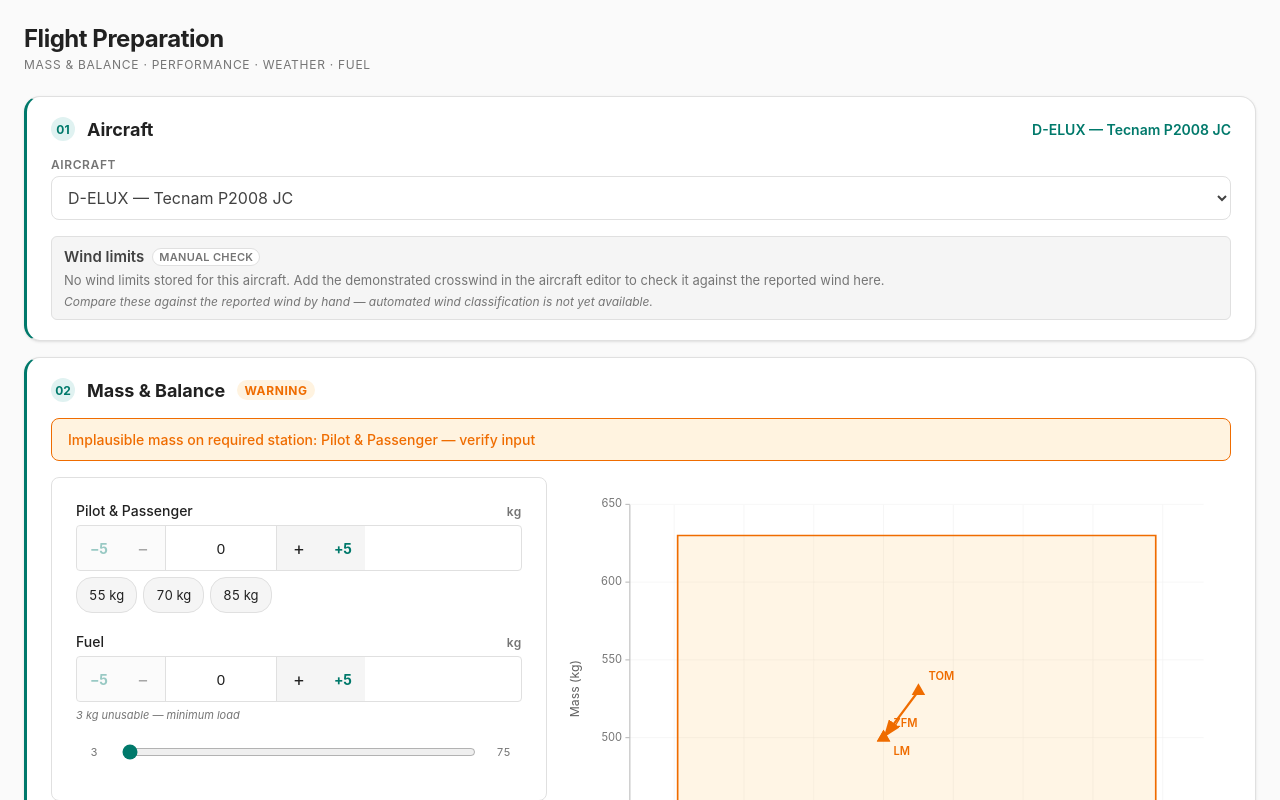
Test case: MassBalanceView — Reset Payload confirm + undo › does not reset on tap — opens an in-app confirmation with a discard count
The width and height of the screenshot is (1280, 800).
Replace the text in the field with id "station-0" with "80" at [221, 548], box x1=165 y1=526 x2=277 y2=570
(page scrolled)
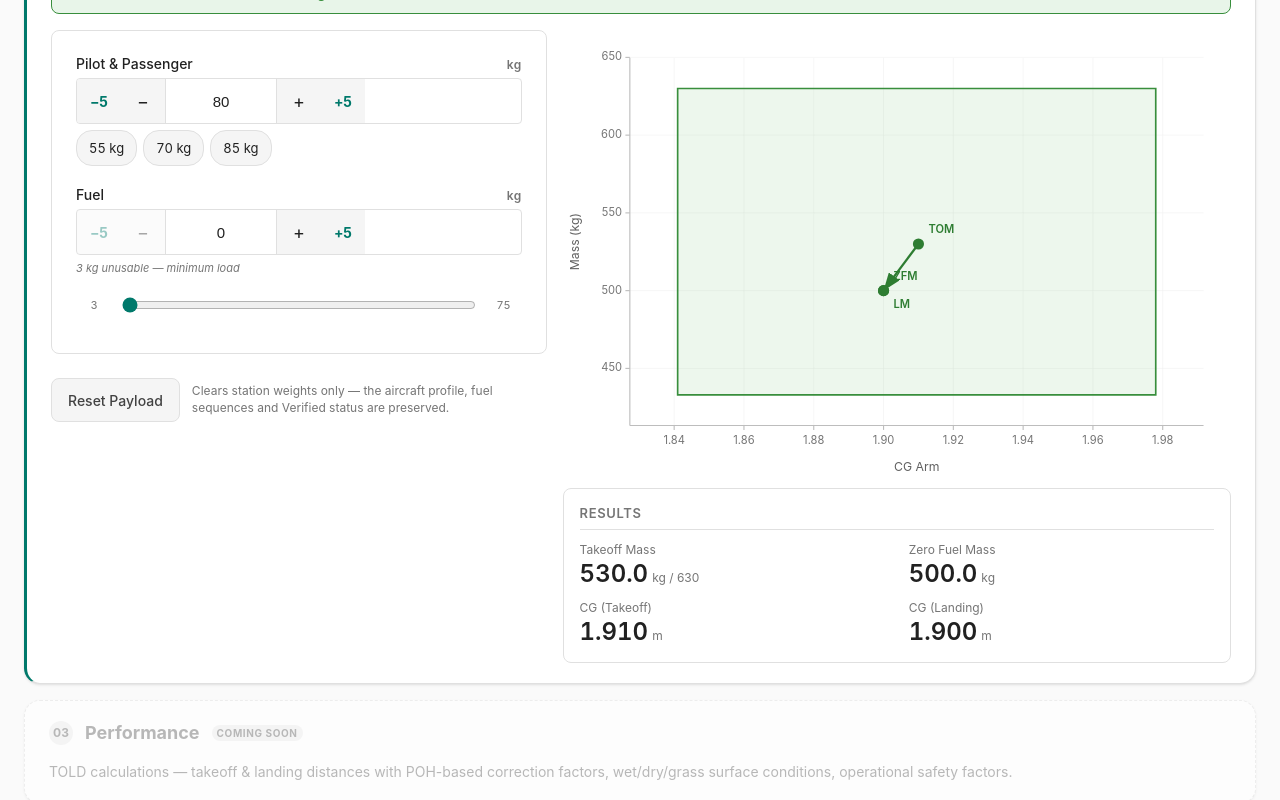
Click the button "Reset Payload".
click(115, 400)  # box x1=51 y1=378 x2=180 y2=422
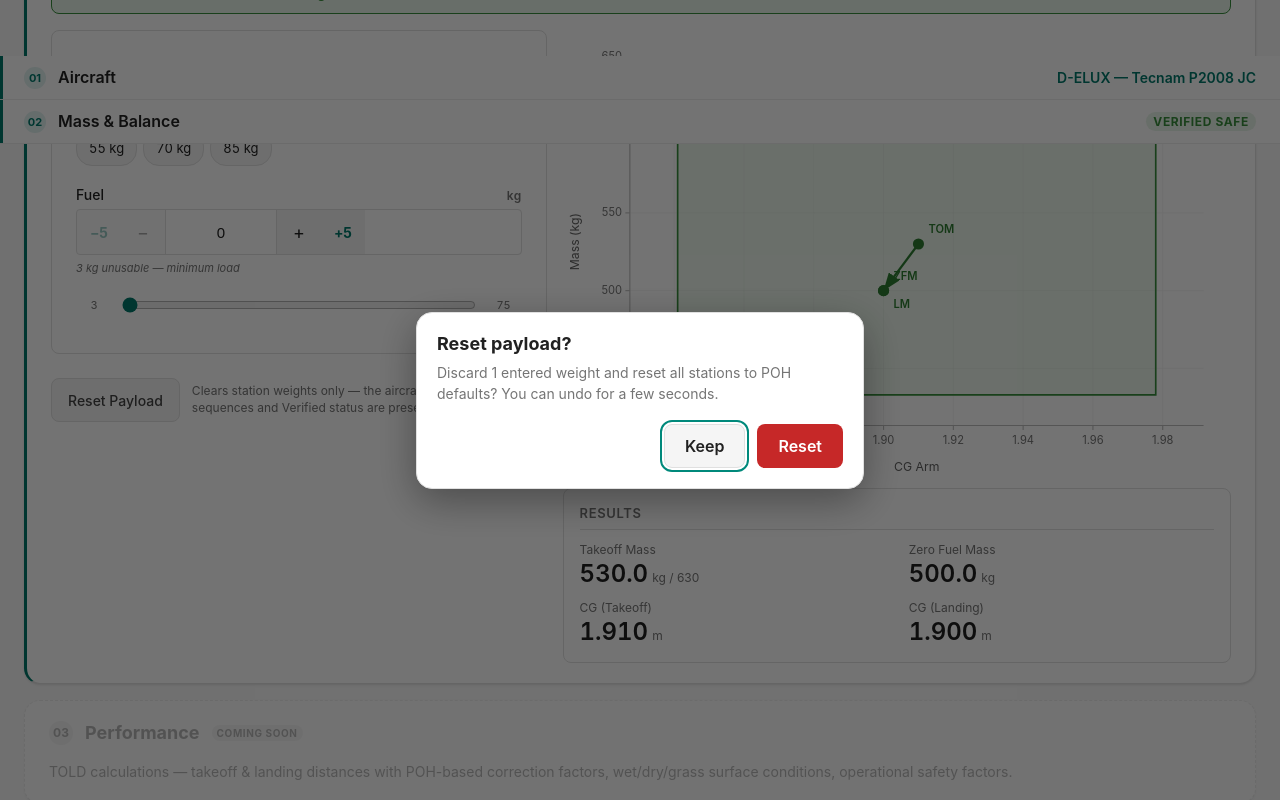
Check: the dialog with class "confirm-dialog" is shown, box x1=416 y1=312 x2=864 y2=488
Check: the dialog with class "confirm-dialog" shows "Discard 1", box x1=437 y1=364 x2=791 y2=402
